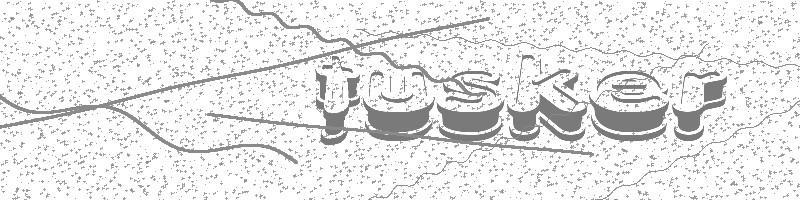e: (587, 69, 669, 143)
k: (507, 53, 588, 142)
r: (671, 71, 727, 141)
s: (436, 70, 505, 144)
t: (314, 54, 362, 147)
u: (363, 70, 435, 141)
